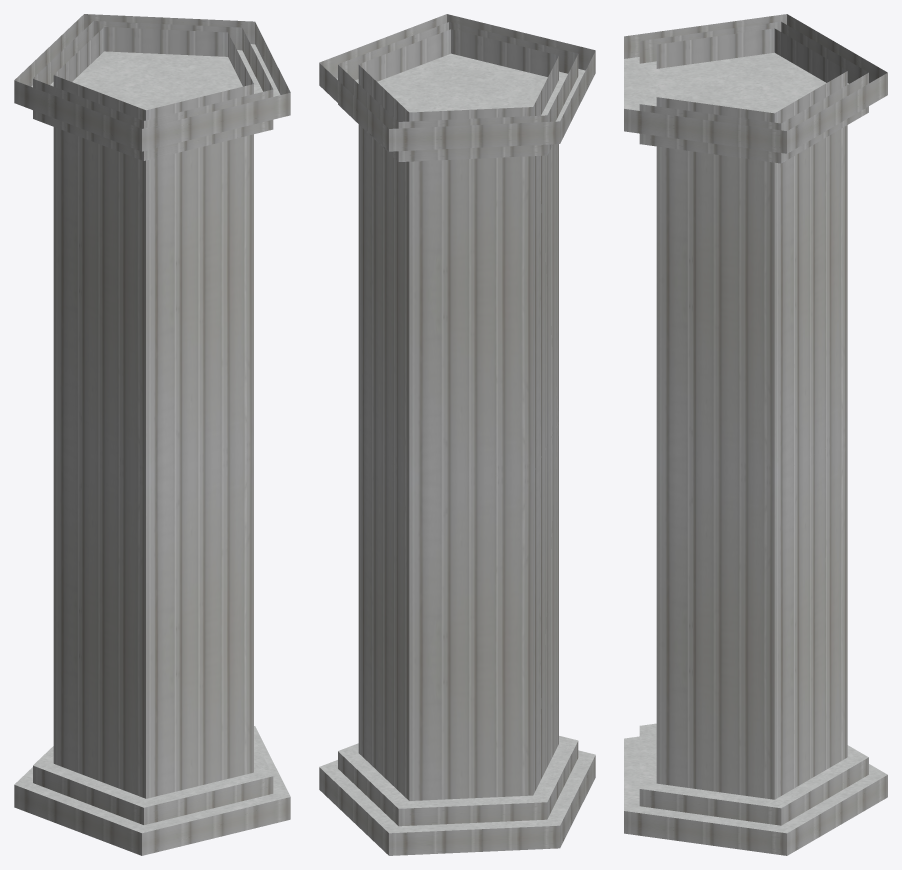
File: BETA Marble Pillar.glb
The picture shows the model from 3 angles, left to right: view 1: azimuth 30°, elevation 25°; view 2: azimuth 150°, elevation 25°; view 3: azimuth 270°, elevation 25°; orthographic projection.
Parts seen in each view (by area): view 1: Pillar; view 2: Pillar; view 3: Pillar.
Part boxes in pixels (x1=…): Pillar: x1=14, y1=14, x2=290, y2=855; Pillar: x1=319, y1=14, x2=595, y2=855; Pillar: x1=624, y1=14, x2=887, y2=855.
Size of what is drawn, in the model's own units: 2.89 by 8.37 by 2.75.
2 materials, 2 textured.
